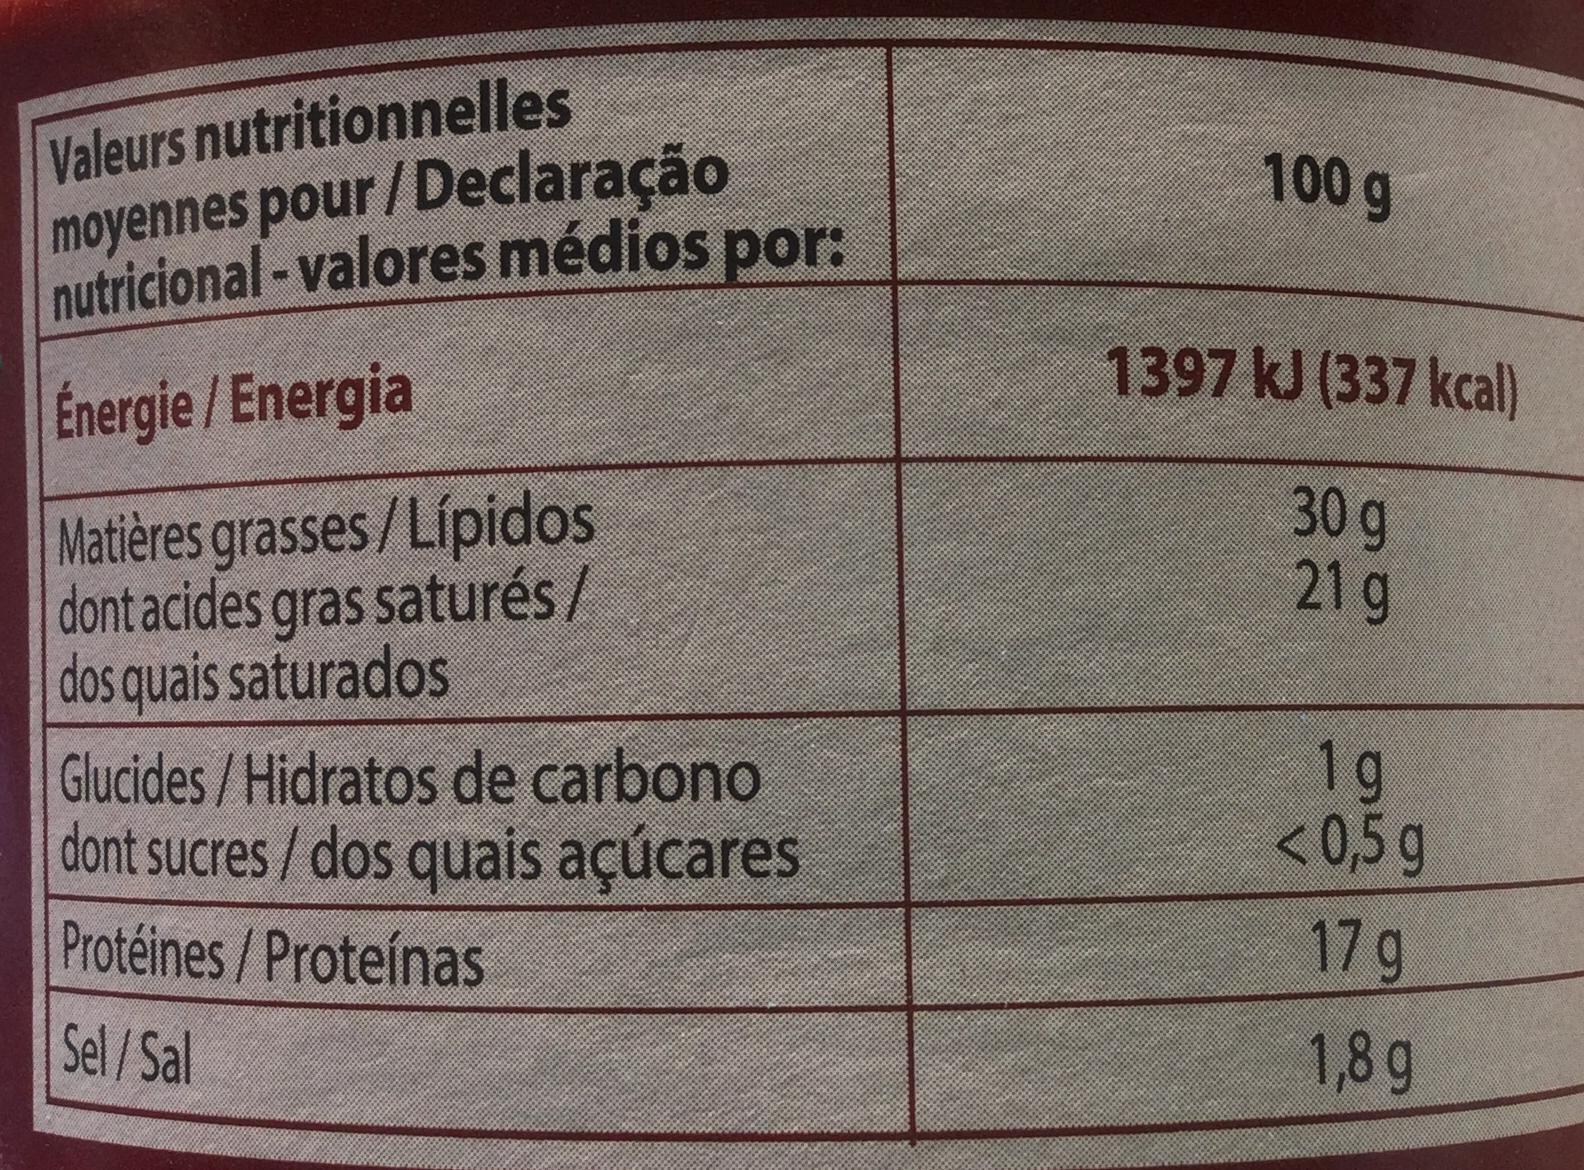column: (34, 81, 841, 1092), (1107, 148, 1525, 1086)
line: (48, 86, 1396, 292), (57, 567, 1411, 699), (47, 347, 1518, 437), (61, 1019, 1416, 1094), (63, 912, 1407, 979), (58, 488, 1388, 555), (64, 742, 1388, 807), (73, 821, 1427, 881)
table: (14, 42, 1584, 1156)
